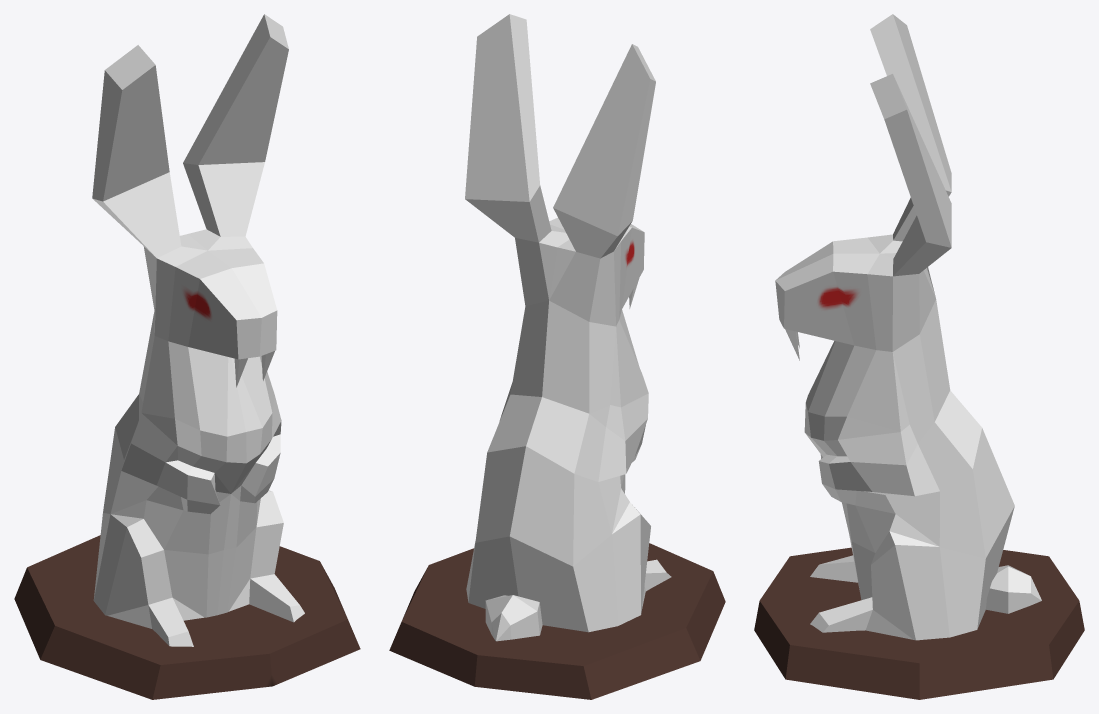
File: Asset_Enemy_Jacob.fbx
The picture shows the model from 3 angles, left to right: view 1: azimuth 30°, elevation 25°; view 2: azimuth 150°, elevation 25°; view 3: azimuth 270°, elevation 25°; orthographic projection. The views are drawn at different scales.
Visible parts, largest first — view 1: polysurface_enemy_bunny, Enemy_bunny_Stand; view 2: polysurface_enemy_bunny, Enemy_bunny_Stand; view 3: polysurface_enemy_bunny, Enemy_bunny_Stand.
Part boxes in pixels (x1,y1,x2,y2): polysurface_enemy_bunny: (92,14,304,646); Enemy_bunny_Stand: (14,535,360,699); polysurface_enemy_bunny: (465,14,671,641); Enemy_bunny_Stand: (389,543,725,699); polysurface_enemy_bunny: (775,14,1041,640); Enemy_bunny_Stand: (754,547,1084,699).
Size of the model in its own units: 31.22 by 61.27 by 31.31.
